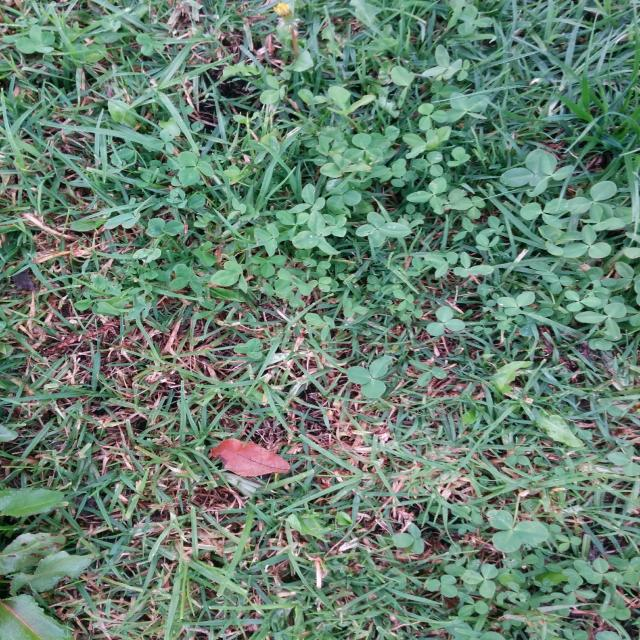Four Leaf Clover: (355, 211, 411, 247), (316, 214, 347, 237)
